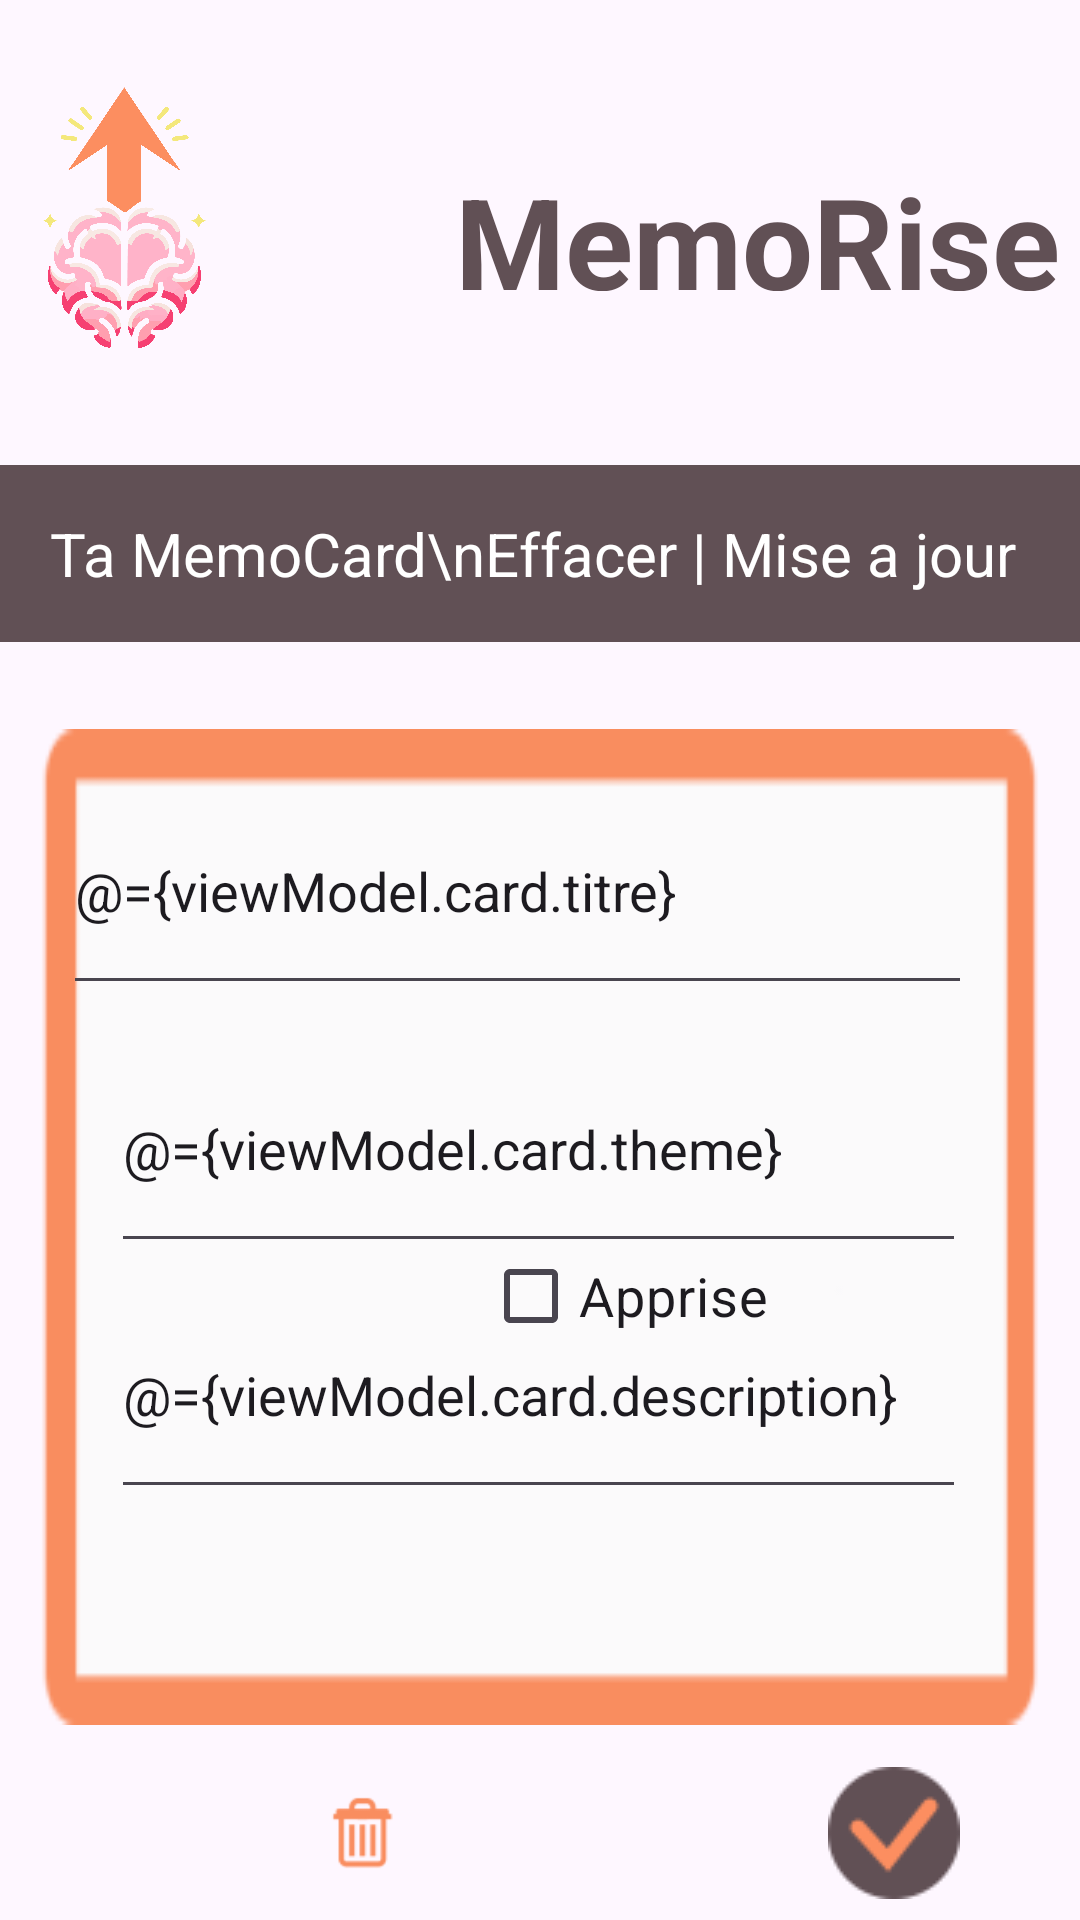

Icon bounding boxes for this 1080×1920 phone screenshot, format (left=x1, top=y1, right=x2, bottom=y2):
memorise: (left=44, top=87, right=206, bottom=348)
poubelle: (left=333, top=1798, right=393, bottom=1868)
valid: (left=828, top=1767, right=960, bottom=1899)
